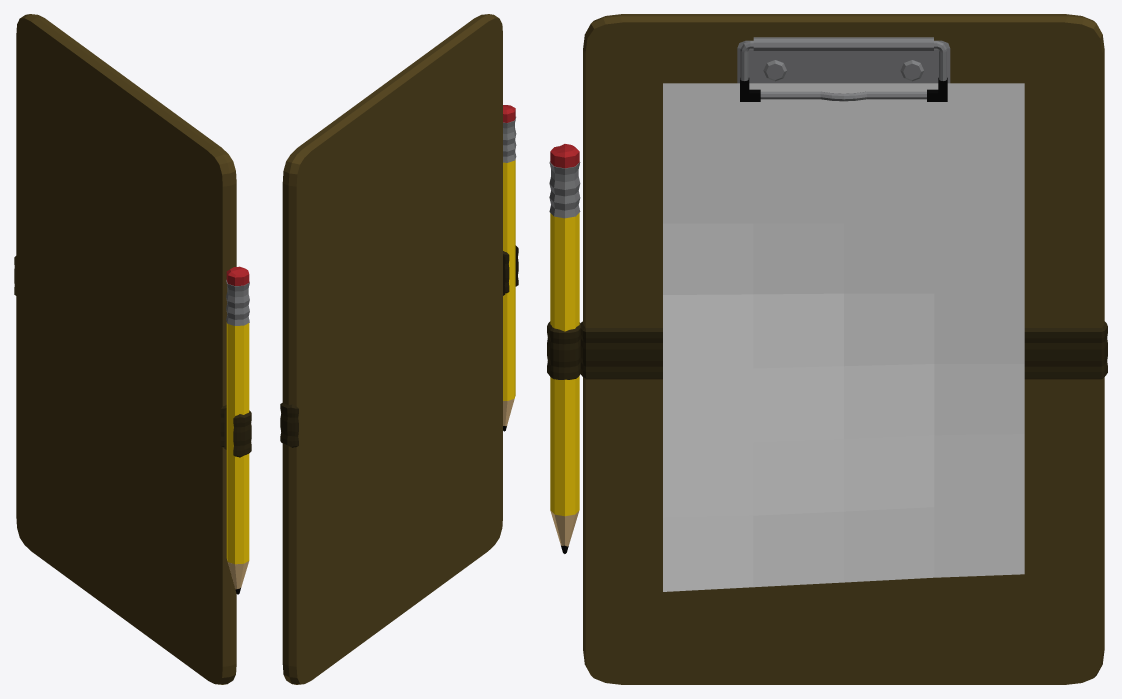
Rendered from todo-transformed.glb.
3 views of the same model, side by side, from view 1: azimuth 30°, elevation 25°; view 2: azimuth 150°, elevation 25°; view 3: azimuth 270°, elevation 25° (orthographic). The views are drawn at different scales.
Visible parts, largest first — view 1: Cube, Pencile, Cube.003; view 2: Cube, Pencile, Cube.002; view 3: Plane, Cube, Pencile, Cube.002, Plane.001, Cylinder, Cube.003, Cylinder.001.
Boxes of the visible parts, x1=… form: Cube: x1=16, y1=14, x2=236, y2=684; Pencile: x1=226, y1=266, x2=249, y2=594; Cube.003: x1=224, y1=409, x2=251, y2=457; Cube: x1=282, y1=14, x2=502, y2=684; Pencile: x1=503, y1=105, x2=516, y2=431; Cube.002: x1=280, y1=255, x2=505, y2=447; Plane: x1=663, y1=83, x2=1024, y2=591; Cube: x1=583, y1=14, x2=1104, y2=684; Pencile: x1=549, y1=144, x2=580, y2=553; Cube.002: x1=580, y1=321, x2=1107, y2=379; Plane.001: x1=737, y1=40, x2=950, y2=83; Cylinder: x1=740, y1=37, x2=946, y2=80; Cube.003: x1=547, y1=321, x2=580, y2=379; Cylinder.001: x1=760, y1=91, x2=926, y2=101.
Bounding box in the file's own units: 0.895 × 9.13 × 6.97.
